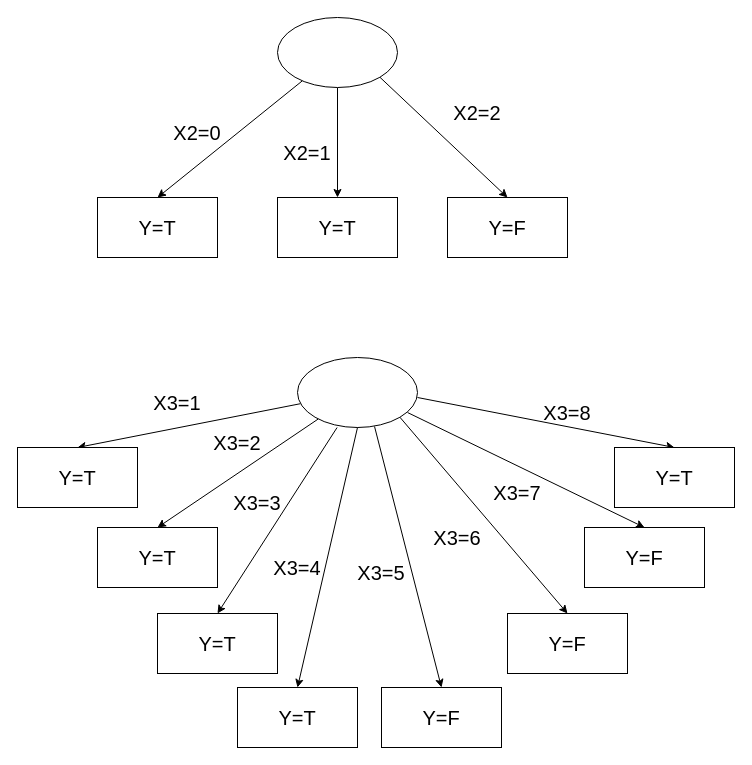
Some shapes in this 752 by 765 pixel diagram are drawn without their labels. Each missing label, with the centre of its shape:
"X2" goes at point 337,52.
"X3" goes at point 357,392.
